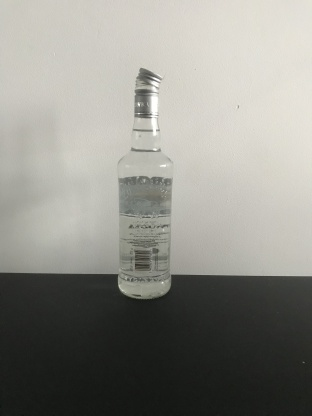nakretka: (132, 64, 163, 118)
